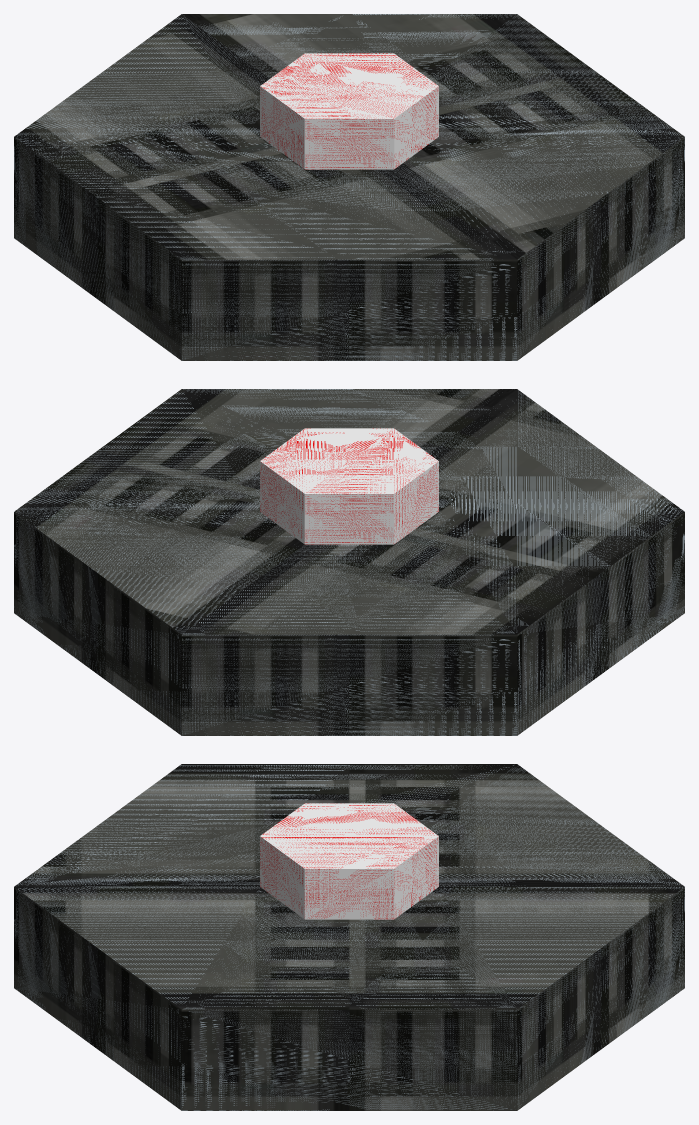
The model's file is Mine.fbx.
3 views of the same model, one above another, from view 1: azimuth 30°, elevation 25°; view 2: azimuth 150°, elevation 25°; view 3: azimuth 270°, elevation 25° (orthographic).
Parts seen in each view (by area): view 1: Model; view 2: Model; view 3: Model.
Boxes of the visible parts, x1,y1,x2,y2 form: Model: [14, 14, 684, 360]; Model: [14, 389, 684, 735]; Model: [14, 764, 684, 1110].
Size of the model in its own units: 0.5196 by 0.15 by 0.6.
